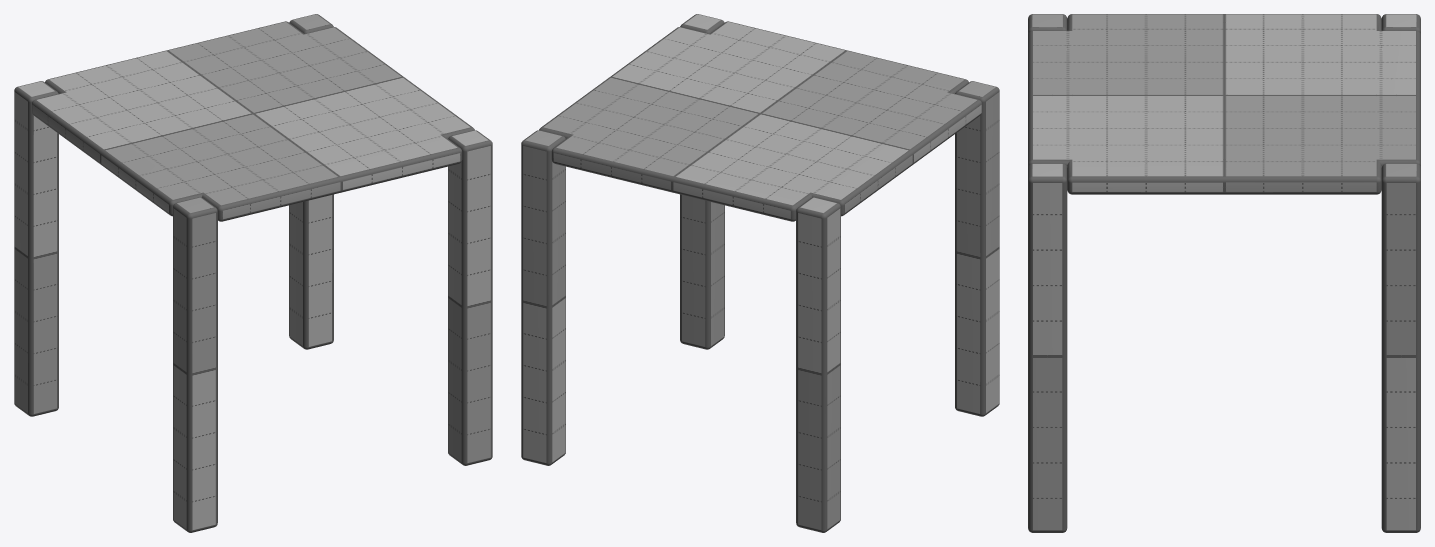
File: Table1x1x1.fbx
The picture shows the model from 3 angles, left to right: view 1: azimuth 30°, elevation 25°; view 2: azimuth 150°, elevation 25°; view 3: azimuth 270°, elevation 25°; orthographic projection. The views are drawn at different scales.
Parts seen in each view (by area): view 1: Table1x1x1; view 2: Table1x1x1; view 3: Table1x1x1.
Part boxes in pixels (left/top/right/bottom): Table1x1x1: left=14, top=14, right=492, bottom=532; Table1x1x1: left=521, top=14, right=999, bottom=532; Table1x1x1: left=1028, top=14, right=1420, bottom=532.
Size of the model in its own units: 100 by 100 by 100.
